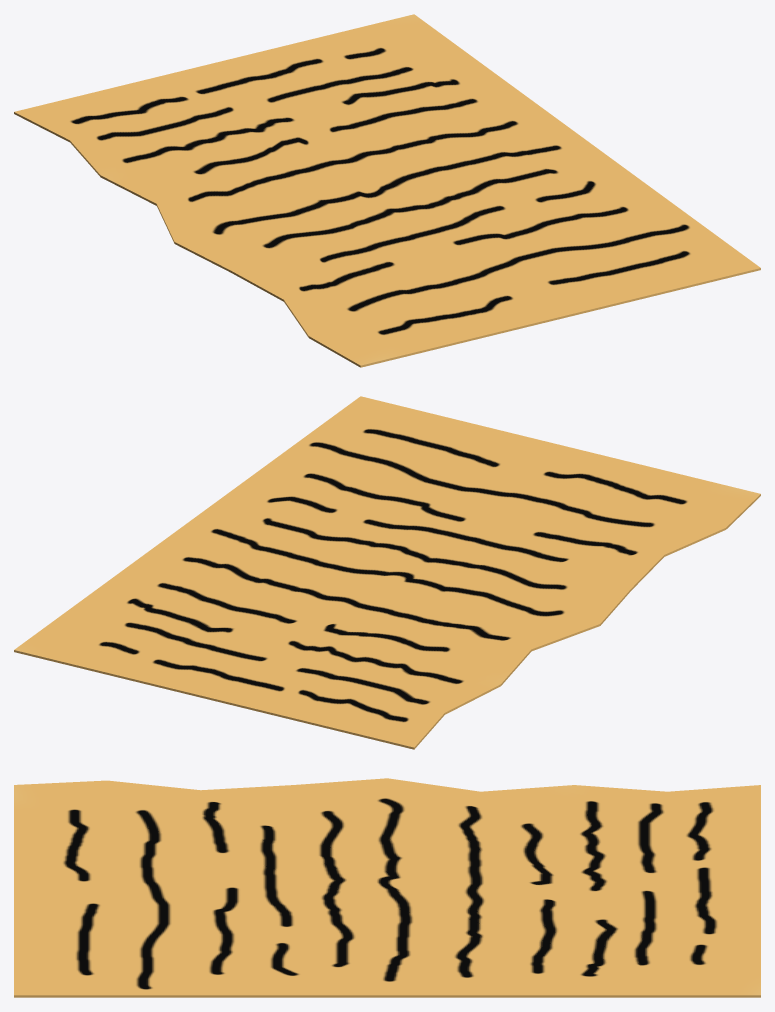
The model's file is Letter Beige textured.fbx.
3 renders of one model, top to bottom at view 1: azimuth 30°, elevation 25°; view 2: azimuth 150°, elevation 25°; view 3: azimuth 270°, elevation 25°, orthographic. The views are drawn at different scales.
Visible parts, largest first — view 1: Plane; view 2: Plane; view 3: Plane.
Boxes of the visible parts, x1=… form: Plane: x1=14, y1=14, x2=760, y2=367; Plane: x1=14, y1=396, x2=760, y2=749; Plane: x1=14, y1=778, x2=760, y2=997.
Size of the model in its own units: 206 by 1 by 300.
2 materials, 1 textured.
